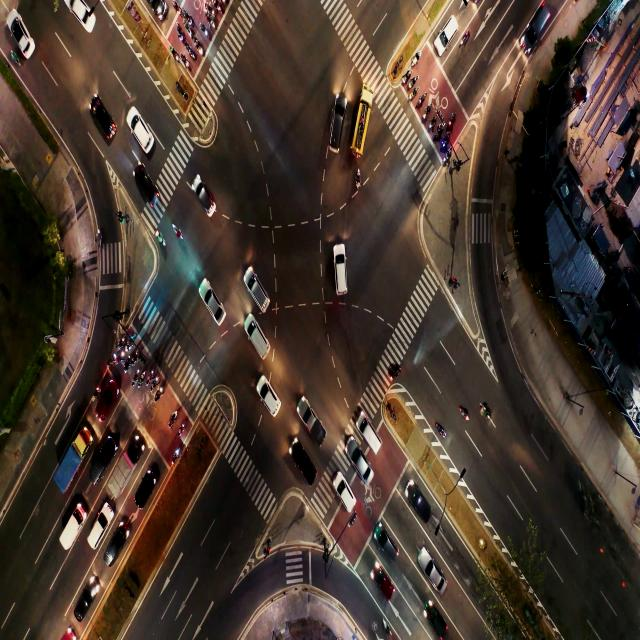bus: (357, 120, 367, 140)
car: (68, 6, 100, 23), (294, 450, 308, 477), (249, 286, 267, 306), (335, 253, 345, 287), (137, 127, 152, 148), (196, 191, 211, 211), (533, 14, 547, 34), (91, 520, 105, 540), (429, 567, 443, 586), (17, 25, 28, 49), (101, 113, 112, 133), (334, 107, 340, 142), (250, 328, 262, 345), (209, 299, 219, 319), (142, 483, 152, 502), (264, 388, 273, 408), (93, 454, 103, 472), (342, 489, 351, 508), (432, 615, 442, 632), (377, 578, 386, 596), (359, 461, 369, 477), (419, 502, 428, 518), (142, 182, 151, 198), (442, 26, 449, 46), (367, 433, 376, 448), (114, 539, 122, 554), (104, 398, 113, 411), (387, 544, 394, 559), (80, 594, 87, 608)
motorcycle: (384, 353, 399, 379), (170, 220, 179, 241), (480, 402, 490, 419), (354, 164, 360, 189), (382, 621, 392, 636), (459, 410, 466, 425), (158, 232, 165, 246), (12, 54, 20, 66), (178, 29, 185, 41), (449, 116, 454, 132), (436, 422, 445, 430), (462, 32, 468, 44), (96, 232, 101, 246), (158, 387, 164, 398), (119, 337, 124, 348), (420, 95, 425, 105), (174, 452, 180, 460), (216, 4, 222, 12), (171, 414, 176, 423), (435, 128, 442, 134), (208, 8, 214, 15), (446, 152, 451, 160), (174, 51, 178, 61), (187, 13, 190, 26), (425, 110, 429, 119), (405, 73, 409, 82), (189, 51, 195, 57), (180, 425, 185, 432), (154, 377, 159, 384), (416, 54, 421, 60), (184, 62, 189, 68), (188, 28, 191, 38), (203, 30, 208, 36), (411, 78, 415, 85), (95, 387, 98, 396), (128, 339, 130, 352), (134, 351, 136, 363), (127, 359, 130, 367), (121, 352, 124, 360), (200, 45, 202, 57), (174, 8, 180, 12), (149, 374, 152, 381), (113, 355, 116, 362), (445, 140, 448, 146), (434, 116, 436, 125), (413, 91, 416, 97), (141, 374, 144, 380), (211, 21, 214, 27), (136, 371, 138, 377)
truck: (68, 508, 80, 532), (70, 457, 78, 480), (120, 462, 130, 480), (310, 416, 317, 432)
